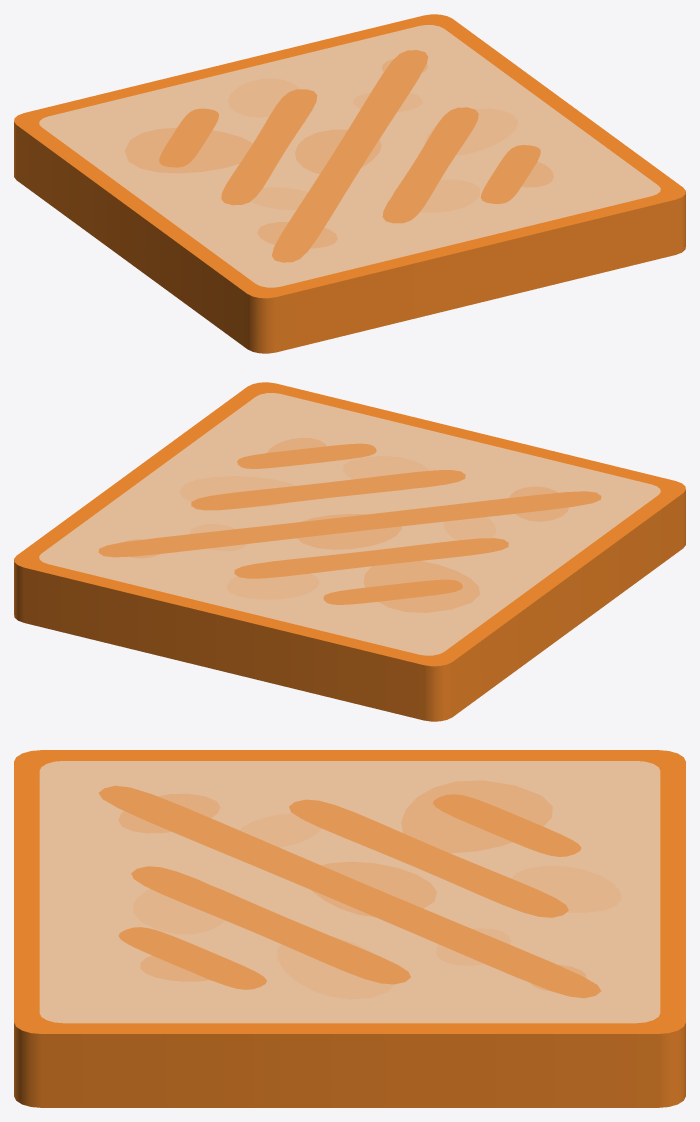
File: Bread H.fbx
The picture shows the model from 3 angles, top to bottom: view 1: azimuth 30°, elevation 25°; view 2: azimuth 150°, elevation 25°; view 3: azimuth 270°, elevation 25°; orthographic projection. The views are drawn at different scales.
Parts seen in each view (by area): view 1: Bread H; view 2: Bread H; view 3: Bread H.
Part boxes in pixels (left/top/right/bottom): Bread H: left=14, top=14, right=685, bottom=353; Bread H: left=14, top=382, right=685, bottom=721; Bread H: left=14, top=750, right=685, bottom=1107.
Bounding box in the file's own units: 0.6502 × 0.0789 × 0.6502.
